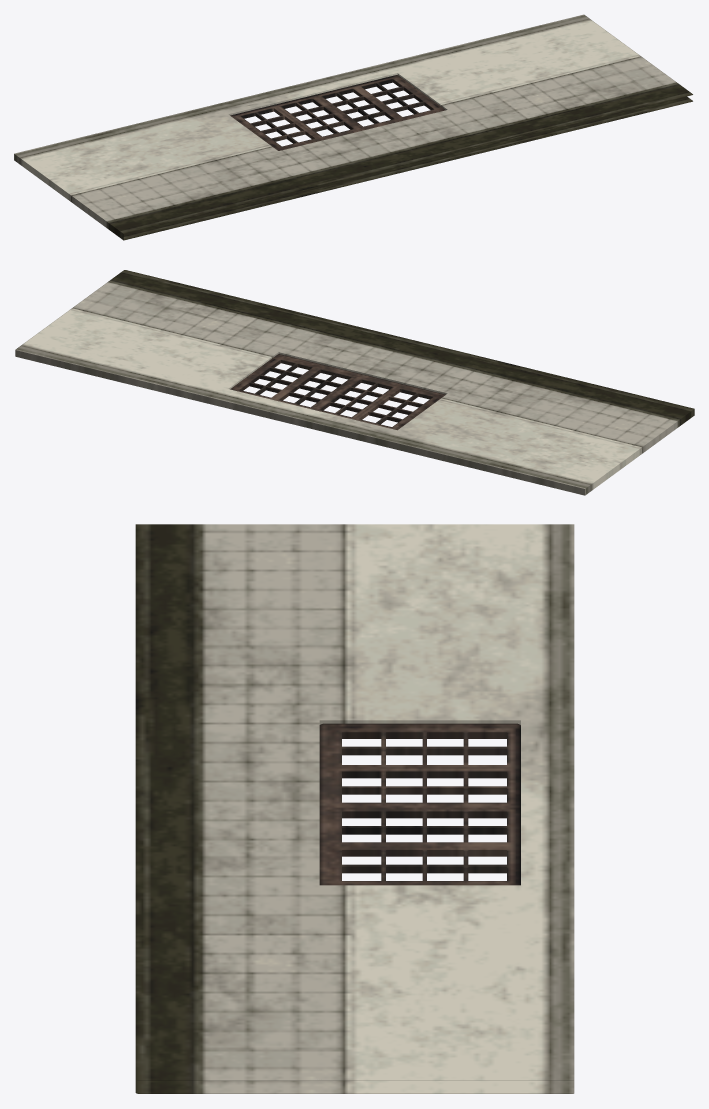
Rendered from SM_EC_House_Wall_Window_2_9x3_3.fbx.
3 views of the same model, one above another, from view 1: azimuth 30°, elevation 25°; view 2: azimuth 150°, elevation 25°; view 3: azimuth 270°, elevation 25° (orthographic). The views are drawn at different scales.
Parts seen in each view (by area): view 1: SM_EC_House_Wall_Window_2_9x3_3; view 2: SM_EC_House_Wall_Window_2_9x3_3; view 3: SM_EC_House_Wall_Window_2_9x3_3.
Part boxes in pixels (bbox=[...]): SM_EC_House_Wall_Window_2_9x3_3: bbox=[14, 14, 692, 240]; SM_EC_House_Wall_Window_2_9x3_3: bbox=[15, 270, 694, 495]; SM_EC_House_Wall_Window_2_9x3_3: bbox=[135, 524, 574, 1093].
Bounding box in the file's own units: 9 × 3 × 0.1.
